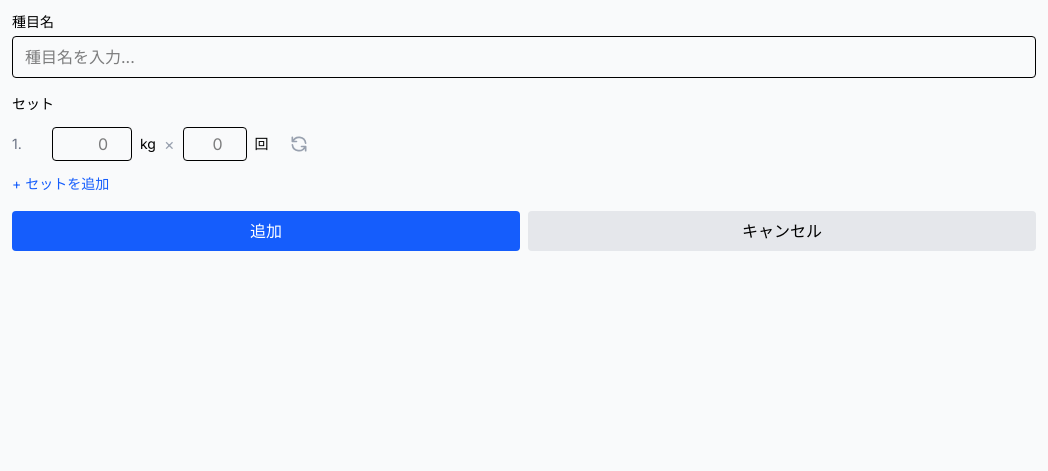
Test case: ExerciseForm › 前回記録 › コピーボタンで前回記録がコピーされる
The width and height of the screenshot is (1048, 471).
Type "ベンチプレス" into the field with placeholder "種目名を入力..." at (524, 57), box [12, 36, 1036, 78]
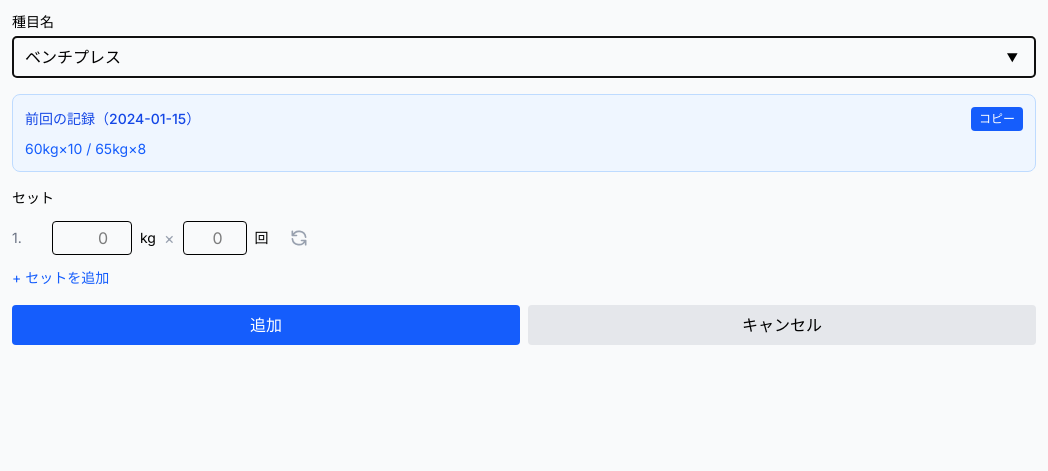
Expected: the button "コピー" is shown
Click the button "コピー" at (997, 119), box [971, 107, 1023, 131]
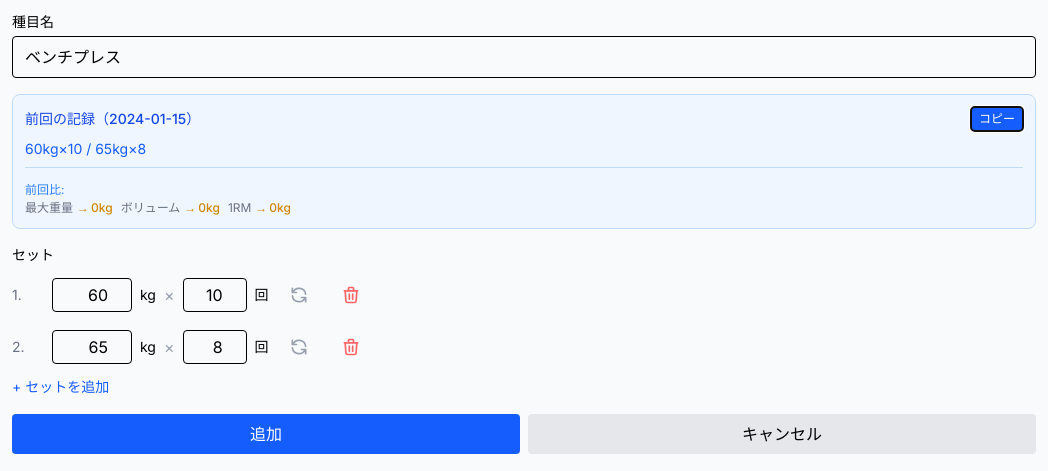
Expected: the text "2." is shown, [12, 338, 25, 355]
Expected: the 1st number field holds "60", [52, 278, 132, 312]
Expected: the 3rd number field holds "65", [52, 330, 132, 364]
